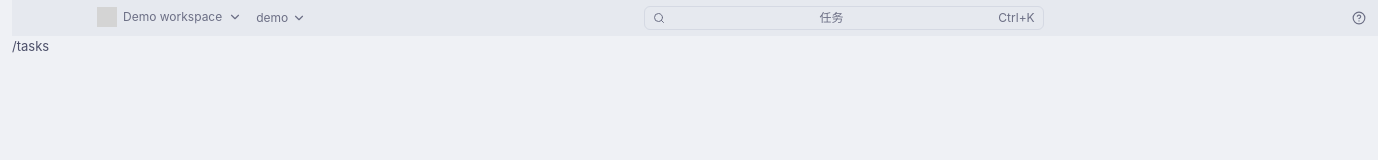
Test: drags from the title bar background while its controls remain clickable
The width and height of the screenshot is (1378, 160).
Press the mouse on the header at (695, 18), box top-left (12, 0), bottom-right (1377, 36)
Press the mouse on the button with aria-label "搜索与命令" at (844, 18), box top-left (644, 6), bottom-right (1044, 30)
Press the mouse on the link to "/help" at (1359, 18), box top-left (1352, 11), bottom-right (1366, 25)
Click the link to "/help" at (1359, 18), box top-left (1352, 11), bottom-right (1366, 25)
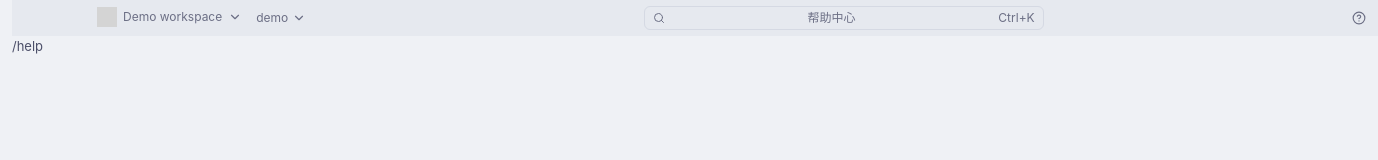
Check: the text "/help" is shown, box top-left (12, 38), bottom-right (43, 54)
